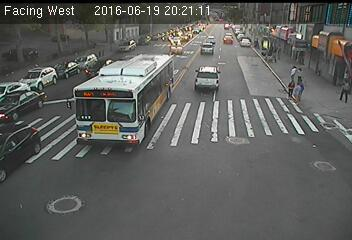neg: (59, 92, 75, 113), (117, 102, 131, 120), (252, 36, 261, 49)
pos: (338, 78, 351, 102), (292, 83, 306, 101), (287, 75, 300, 92), (288, 64, 297, 76), (297, 66, 304, 76), (298, 76, 305, 85)
